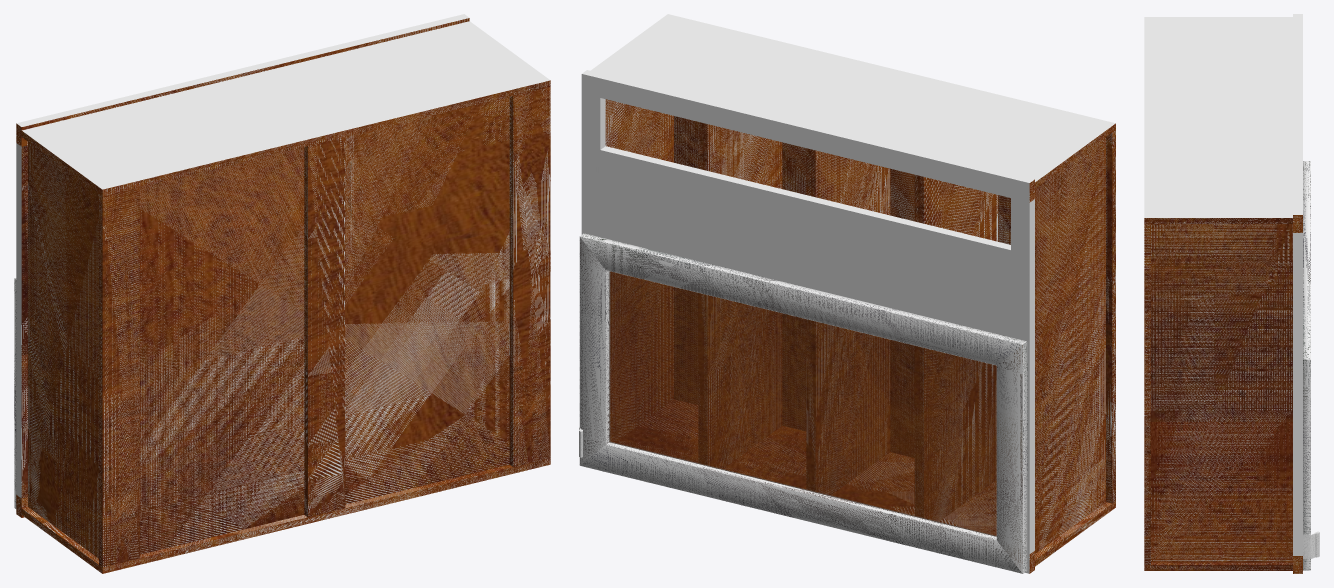
The picture shows the model from 3 angles, left to right: view 1: azimuth 30°, elevation 25°; view 2: azimuth 150°, elevation 25°; view 3: azimuth 270°, elevation 25°; orthographic projection. The views are drawn at different scales.
Visible parts, largest first — view 1: mesh6_mesh6-geometry, mesh3_mesh3-geometry, mesh7_mesh7-geometry, mesh2_mesh2-geometry, mesh8_mesh8-geometry, mesh10_mesh10-geometry, mesh4_mesh4-geometry; view 2: mesh13_mesh13-geometry, mesh14_mesh14-geometry, mesh12_mesh12-geometry, mesh2_mesh2-geometry, mesh11_mesh11-geometry, mesh7_mesh7-geometry, mesh21_mesh21-geometry, mesh15_mesh15-geometry, mesh5_mesh5-geometry, mesh8_mesh8-geometry, mesh10_mesh10-geometry, mesh4_mesh4-geometry (+7 smaller); view 3: mesh1_mesh1-geometry, mesh7_mesh7-geometry, mesh4_mesh4-geometry, mesh3_mesh3-geometry, mesh10_mesh10-geometry, mesh15_mesh15-geometry, mesh8_mesh8-geometry, mesh22_mesh22-geometry, mesh23_mesh23-geometry, mesh18_mesh18-geometry.
Part boxes in pixels (x1,y1,x2,y2): mesh6_mesh6-geometry: [140, 97, 509, 554]; mesh3_mesh3-geometry: [99, 87, 550, 567]; mesh7_mesh7-geometry: [21, 21, 550, 195]; mesh2_mesh2-geometry: [28, 142, 98, 558]; mesh8_mesh8-geometry: [21, 458, 550, 573]; mesh10_mesh10-geometry: [16, 14, 469, 146]; mesh4_mesh4-geometry: [16, 143, 27, 498]; mesh13_mesh13-geometry: [611, 272, 996, 534]; mesh14_mesh14-geometry: [612, 272, 996, 533]; mesh12_mesh12-geometry: [698, 122, 998, 521]; mesh2_mesh2-geometry: [605, 99, 1105, 553]; mesh11_mesh11-geometry: [600, 146, 1010, 337]; mesh7_mesh7-geometry: [591, 14, 1115, 188]; mesh21_mesh21-geometry: [607, 441, 996, 566]; mesh15_mesh15-geometry: [607, 240, 998, 364]; mesh5_mesh5-geometry: [674, 116, 1010, 457]; mesh8_mesh8-geometry: [615, 399, 1115, 566]; mesh10_mesh10-geometry: [581, 70, 1034, 202]; mesh4_mesh4-geometry: [581, 93, 1034, 554]; mesh1_mesh1-geometry: [1151, 224, 1292, 562]; mesh7_mesh7-geometry: [1144, 17, 1292, 223]; mesh4_mesh4-geometry: [1293, 233, 1302, 555]; mesh3_mesh3-geometry: [1144, 224, 1150, 564]; mesh10_mesh10-geometry: [1293, 14, 1302, 232]; mesh15_mesh15-geometry: [1303, 173, 1310, 346]; mesh8_mesh8-geometry: [1144, 562, 1292, 570]; mesh22_mesh22-geometry: [1303, 386, 1310, 534]; mesh23_mesh23-geometry: [1303, 531, 1319, 558]; mesh18_mesh18-geometry: [1303, 347, 1310, 386].
Size of the model in its own units: 0.7392 by 0.616 by 0.2723.
